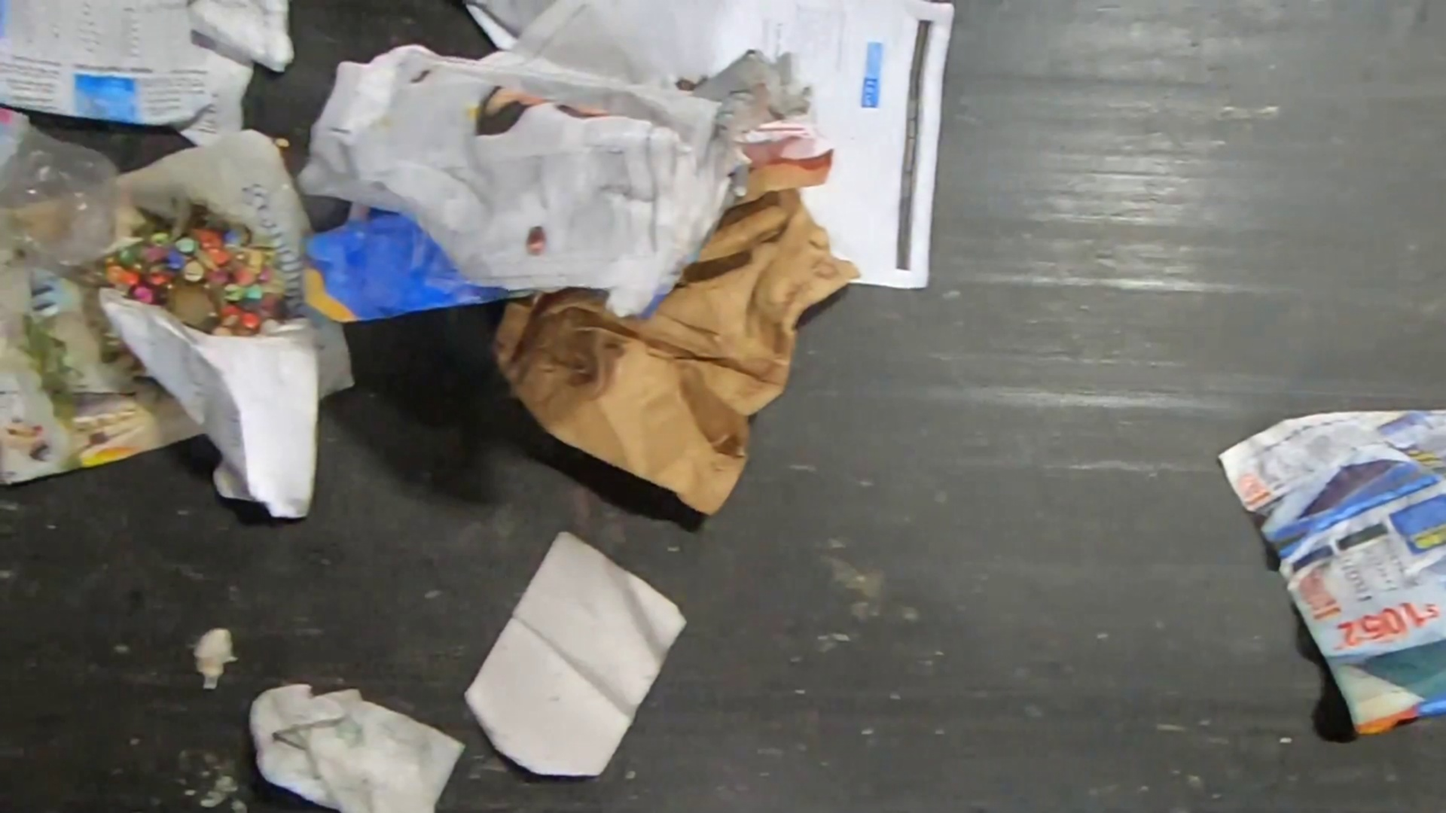cardboard: (487, 150, 865, 519)
plastic: (0, 117, 121, 279)
